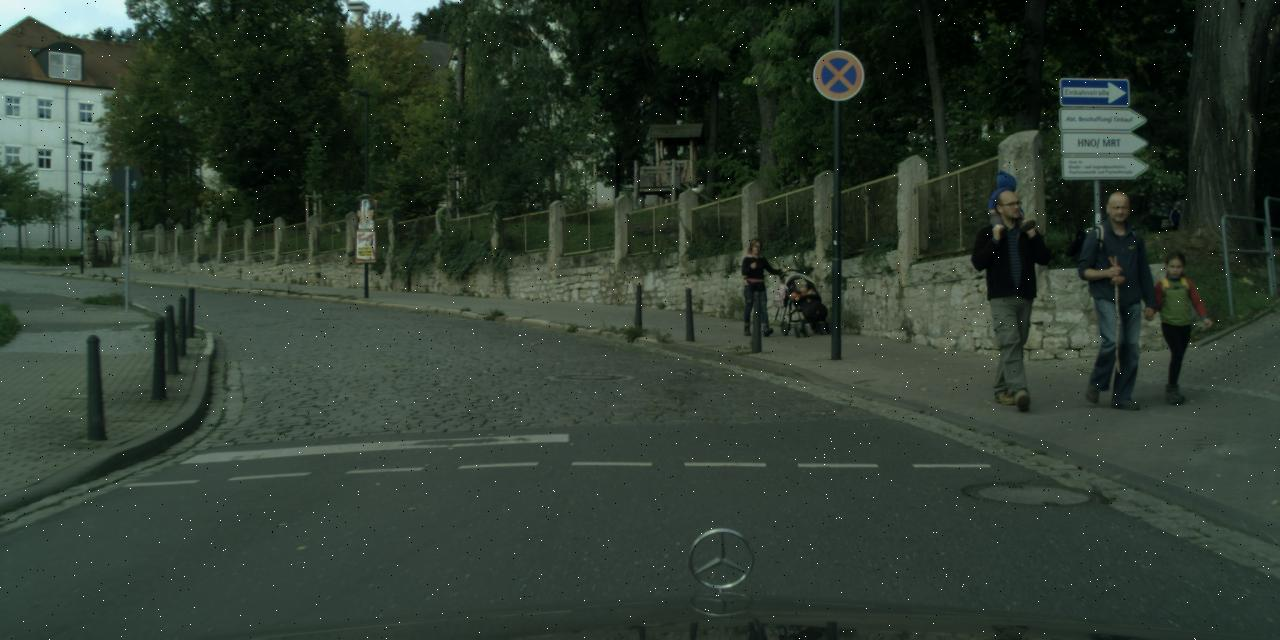ped: (1068, 190, 1156, 406), (967, 190, 1054, 404), (1144, 251, 1208, 405), (736, 238, 776, 334), (1167, 200, 1184, 244)
